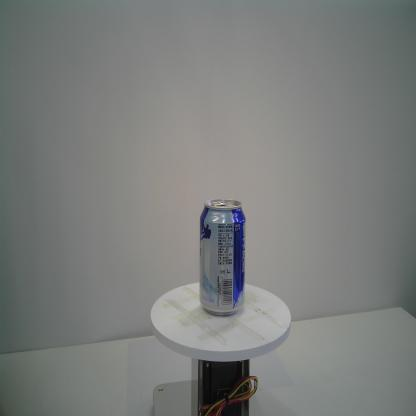Alcohol: (198, 198, 247, 318)
